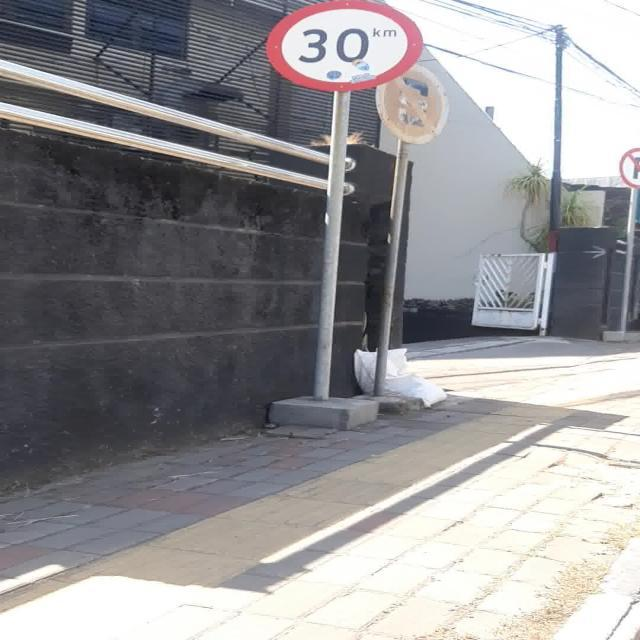Kecepatan Maks. 30 km: (266, 0, 424, 92)
